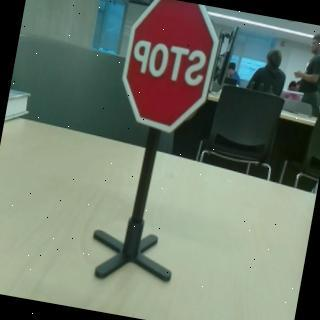sign_stop: (113, 1, 227, 140)
